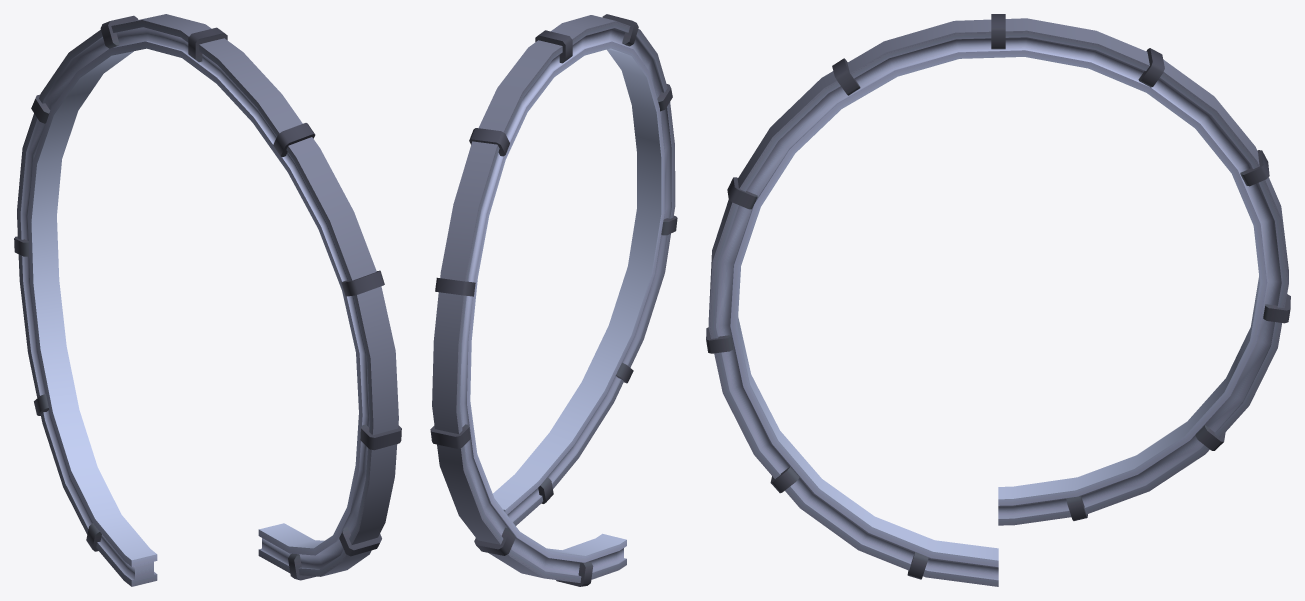
The model's file is coaster-monorail-looping.glb.
3 renders of one model, left to right at view 1: azimuth 30°, elevation 25°; view 2: azimuth 150°, elevation 25°; view 3: azimuth 270°, elevation 25°, orthographic. The views are drawn at different scales.
Visible parts, largest first — view 1: coaster-monorail-looping; view 2: coaster-monorail-looping; view 3: coaster-monorail-looping.
Boxes of the visible parts, left/top/right/bottom form: coaster-monorail-looping: left=14, top=14, right=401, bottom=586; coaster-monorail-looping: left=430, top=14, right=677, bottom=586; coaster-monorail-looping: left=706, top=14, right=1290, bottom=586.
Bounding box in the file's own units: 1.21 × 4.02 × 4.03.
Materials: 1 (1 with a texture image).
